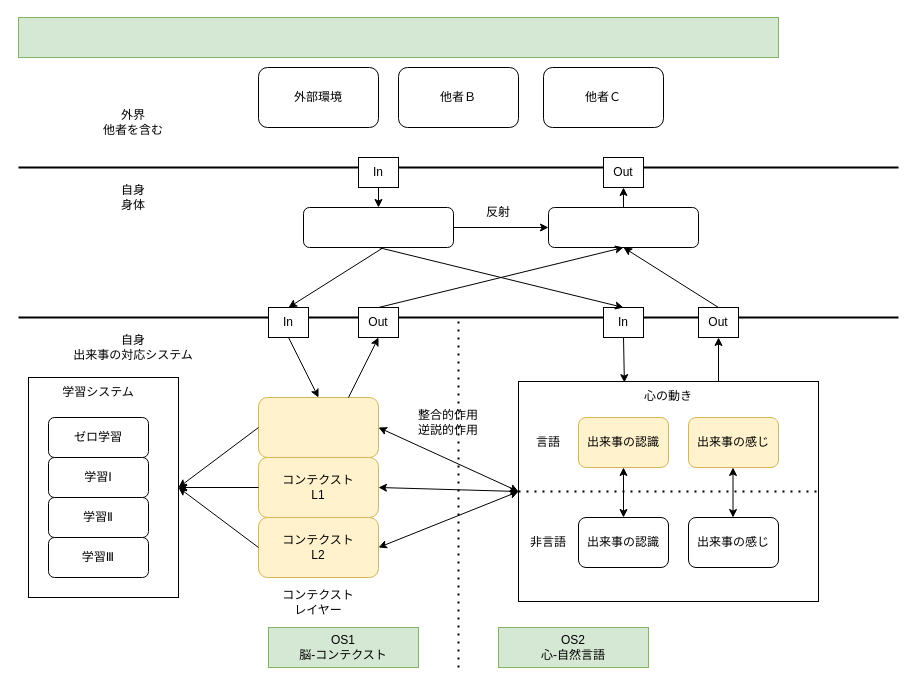
The diagram is 917 pixels wide and 687 high, and some of its shapes have lost their labels. Here are the shapes that lost their labels. From the top down, the centre of each, then its label:
the point at 398,37: 人間に備わる ２つのOS ~ イルカと否定神学 ~
the point at 378,227: 感知、検知システム
the point at 623,227: 作動システム
the point at 318,427: コンテクスト L0
